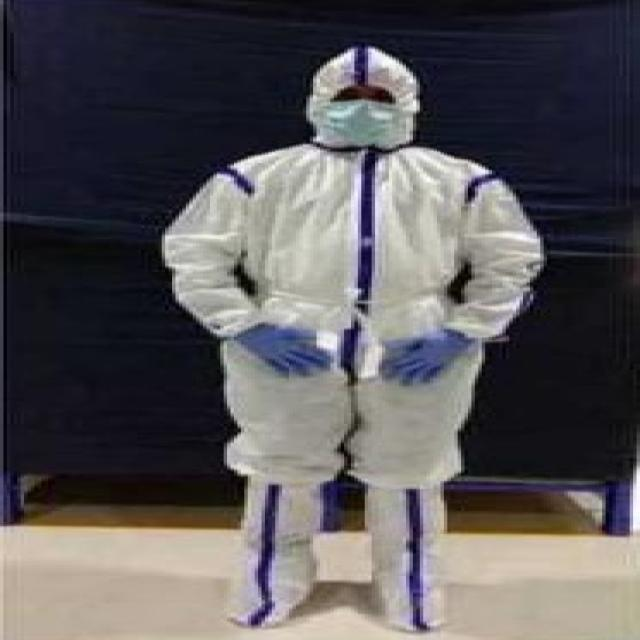Coverall: (141, 31, 523, 620)
Gloves: (155, 314, 530, 383)
Mask: (293, 102, 441, 159)
